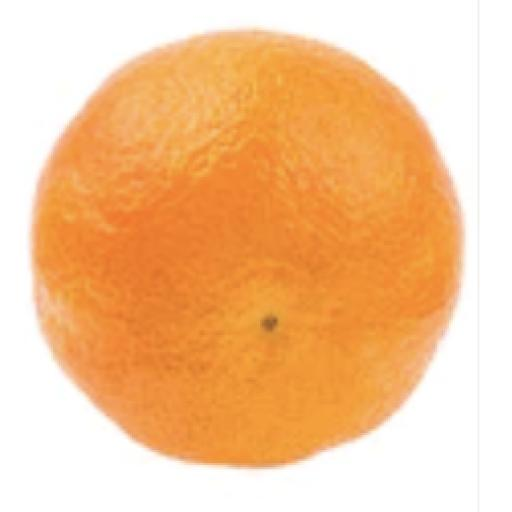orange: (33, 32, 461, 465)
